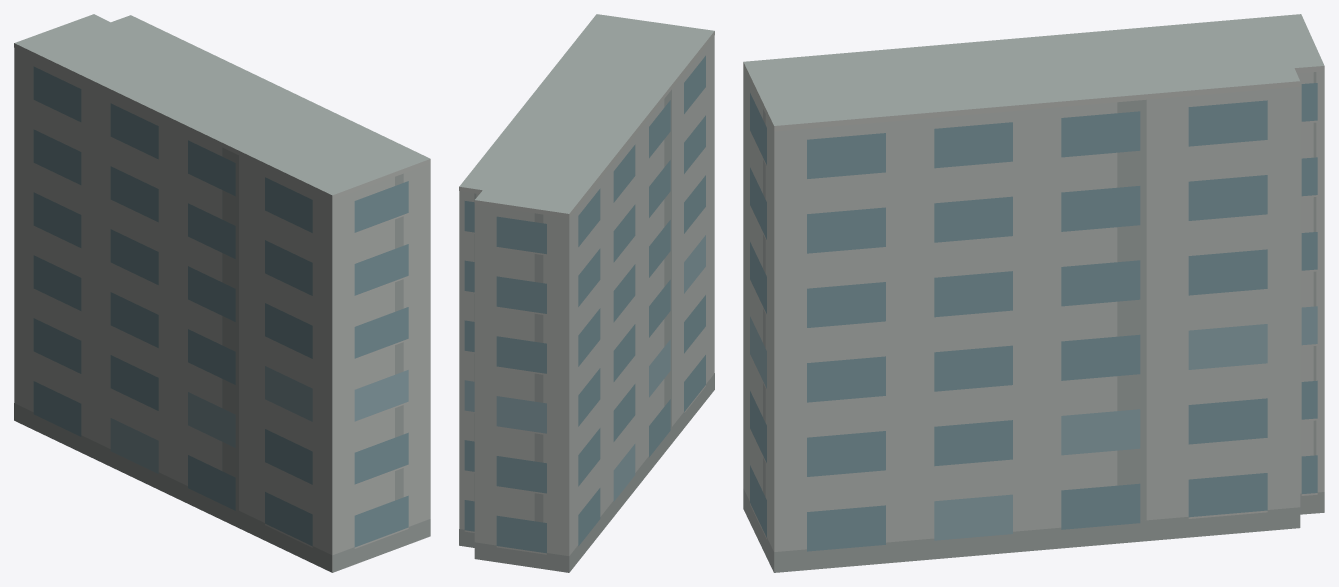
Rendered from survey-upis-32740217.glb.
3 renders of one model, left to right at view 1: azimuth 30°, elevation 25°; view 2: azimuth 150°, elevation 25°; view 3: azimuth 270°, elevation 25°, orthographic. The views are drawn at different scales.
Visible parts, largest first — view 1: survey-upis-32740217.tmp; view 2: survey-upis-32740217.tmp; view 3: survey-upis-32740217.tmp.
Part boxes in pixels (x1,y1,x2,y2): survey-upis-32740217.tmp: (14,14,430,572); survey-upis-32740217.tmp: (459,14,714,572); survey-upis-32740217.tmp: (743,14,1324,572).
Bounding box in the file's own units: 10.6 × 19.7 × 23.23.
